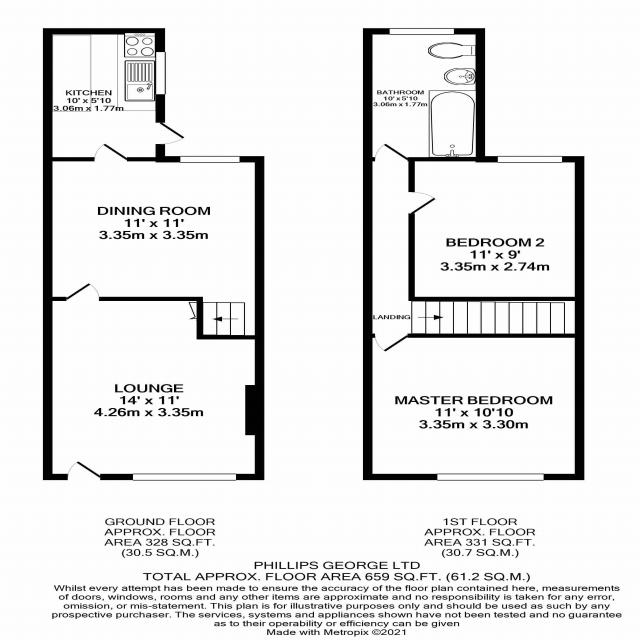DOOR: (408, 190, 438, 215), (373, 333, 409, 353), (66, 460, 102, 480), (155, 122, 186, 145), (373, 143, 409, 162), (65, 282, 101, 301), (93, 143, 128, 162)
ROOM: (42, 283, 265, 480), (42, 142, 265, 339), (362, 333, 585, 481), (408, 156, 585, 301), (43, 28, 185, 162)
WINDOW: (435, 473, 546, 481), (131, 473, 237, 481), (495, 155, 564, 164), (178, 155, 241, 164), (389, 28, 455, 36), (155, 51, 166, 95)
